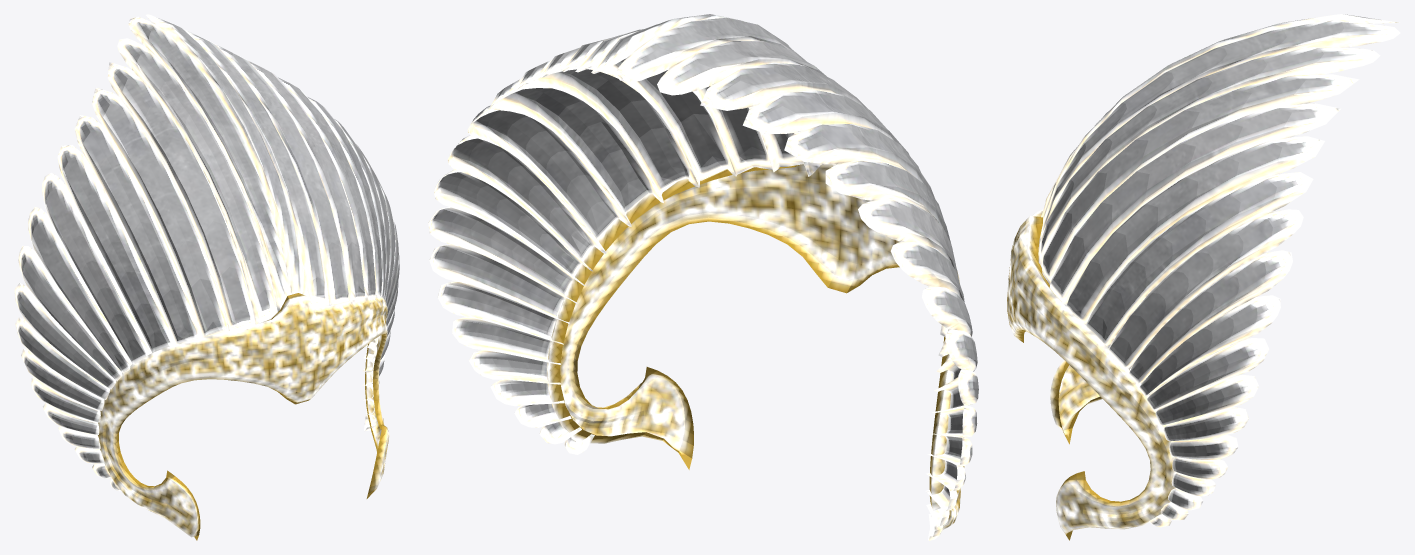
The model's file is angelic_mask.fbx.
The picture shows the model from 3 angles, left to right: view 1: azimuth 30°, elevation 25°; view 2: azimuth 150°, elevation 25°; view 3: azimuth 270°, elevation 25°; orthographic projection. The views are drawn at different scales.
Visible parts, largest first — view 1: angelic_mask; view 2: angelic_mask; view 3: angelic_mask.
Boxes of the visible parts, box(x1,y1,x2,y2) form: angelic_mask: box(14, 14, 399, 540); angelic_mask: box(428, 14, 978, 540); angelic_mask: box(1007, 14, 1400, 540).
Bounding box in the file's own units: 8.43 × 8.76 × 6.58.
